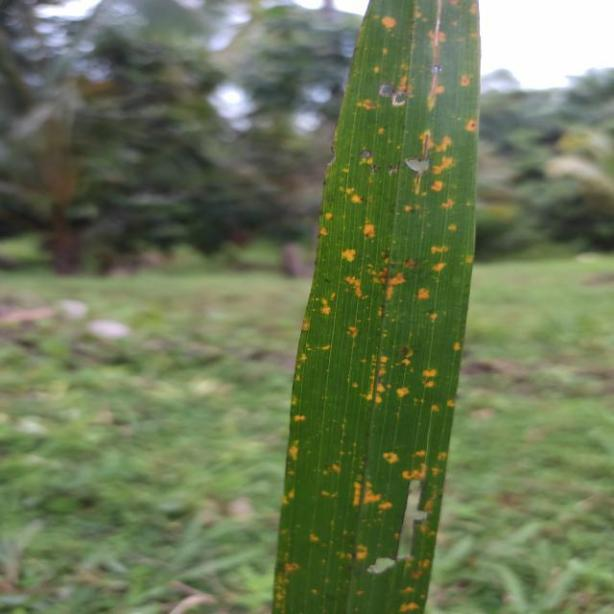Kalium: (270, 0, 486, 614)
